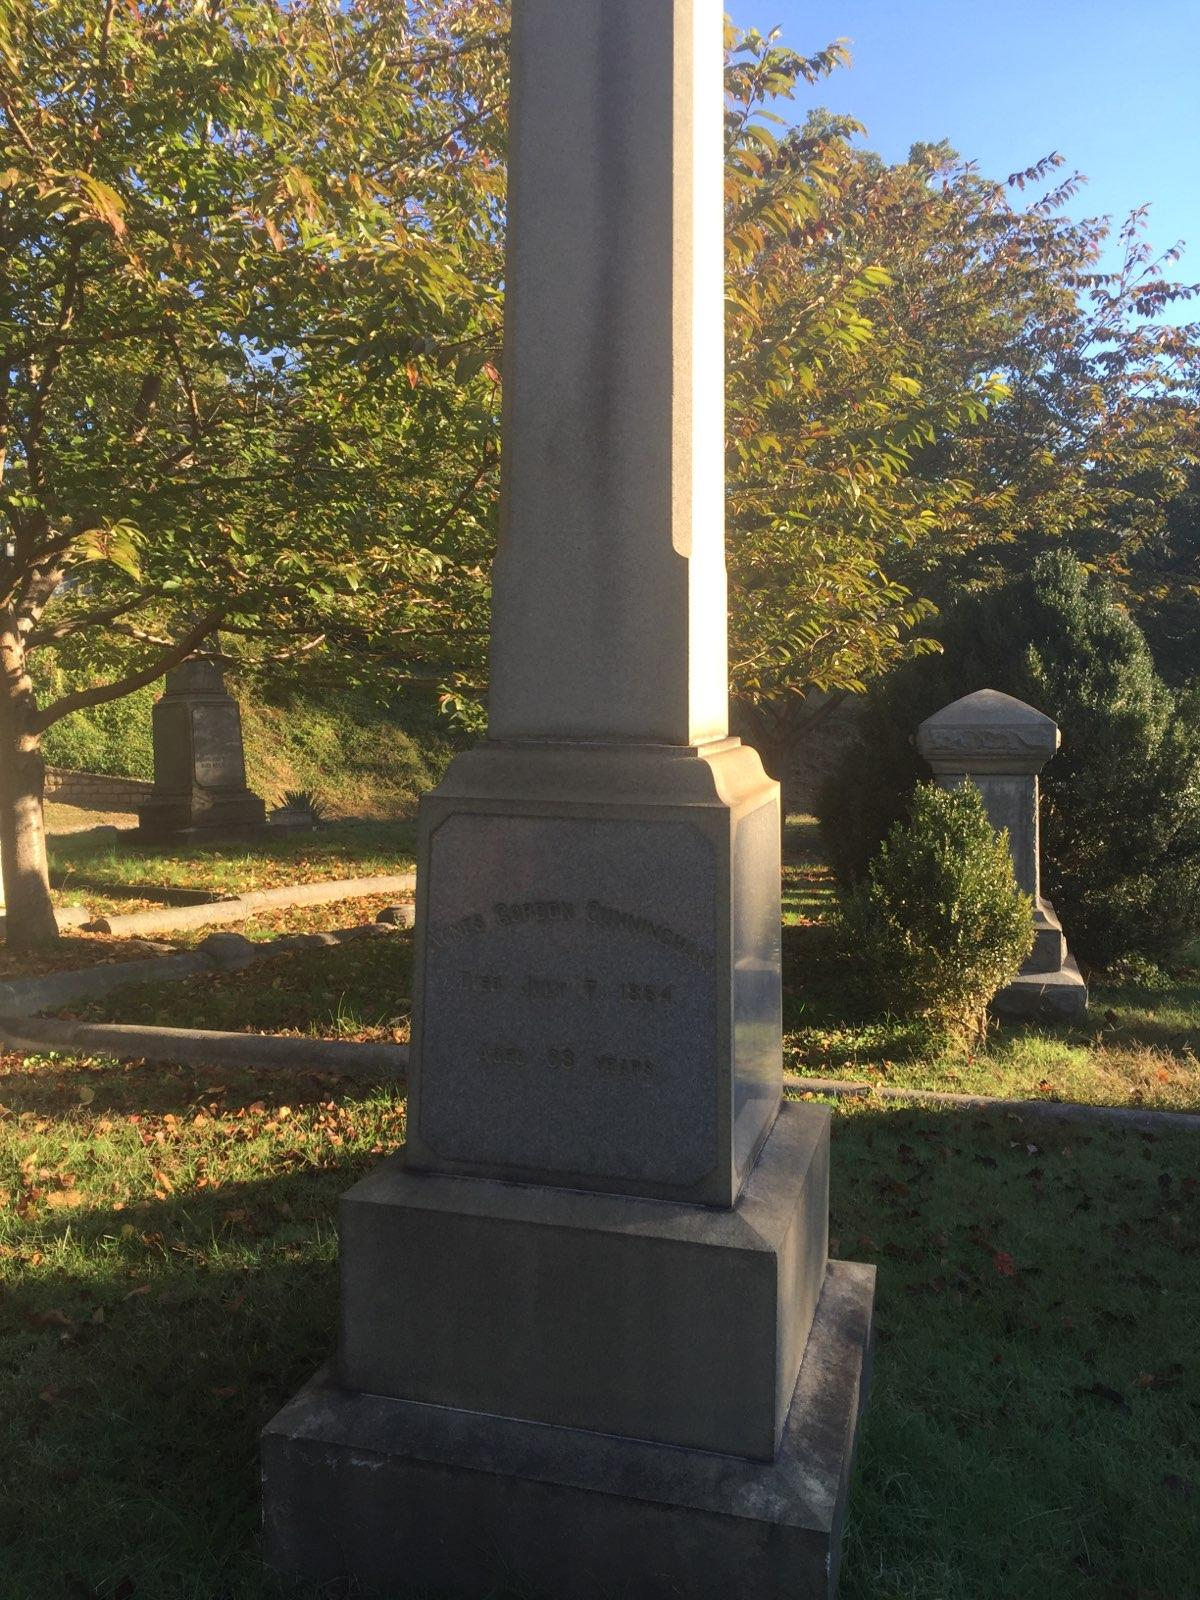obelisk: (405, 0, 776, 1180)
